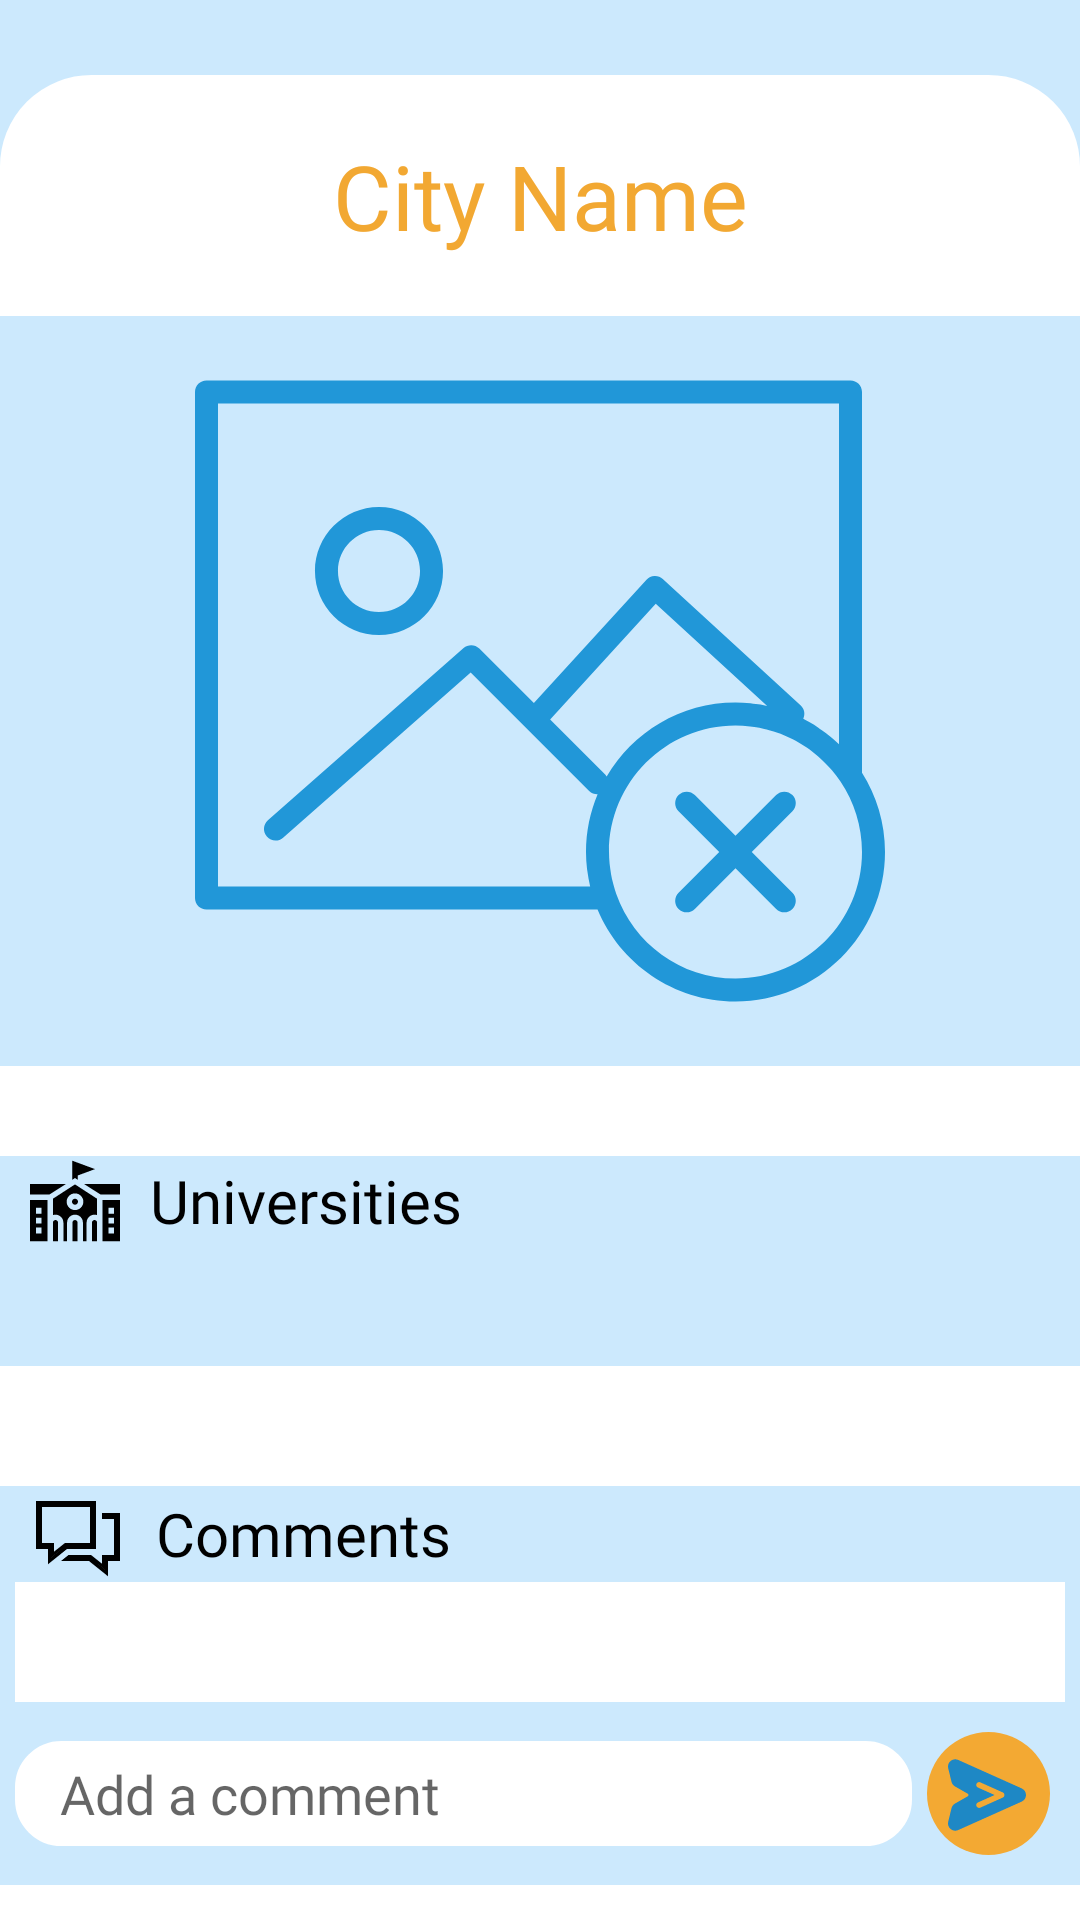

Icon click points for this 1080x1920 phone screenshot, format (x=x, y=y):
send: (x=988, y=1793)
university: (x=75, y=1201)
